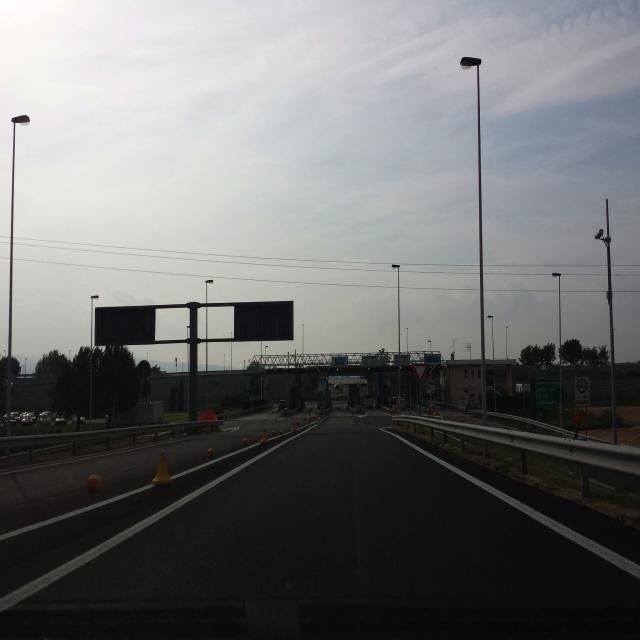car: (20, 412, 37, 426), (37, 413, 51, 425)
